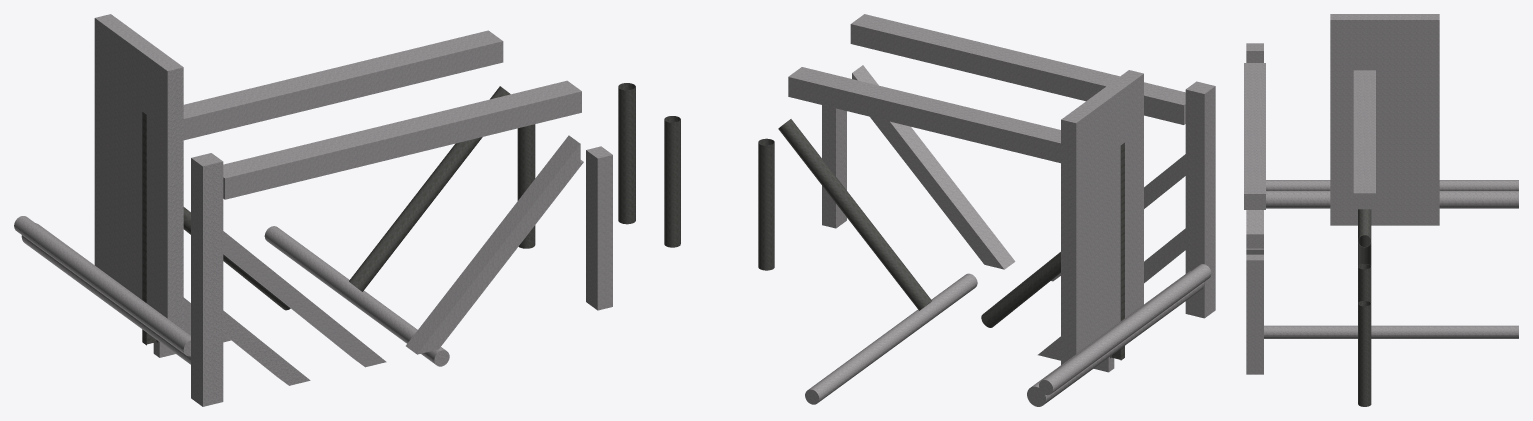
The picture shows the model from 3 angles, left to right: view 1: azimuth 30°, elevation 25°; view 2: azimuth 150°, elevation 25°; view 3: azimuth 270°, elevation 25°; orthographic projection. The views are drawn at different scales.
Parts seen in each view (by area): view 1: 0_2_0_0_3_3; view 2: 0_2_0_0_3_3; view 3: 0_2_0_0_3_3.
Part boxes in pixels (left/top/right/bottom): 0_2_0_0_3_3: left=14, top=14, right=635, bottom=406; 0_2_0_0_3_3: left=664, top=14, right=1215, bottom=406; 0_2_0_0_3_3: left=1244, top=14, right=1518, bottom=406.
Bounding box in the file's own units: 20.33 × 11.97 × 12.43.
18 materials, 18 textured.
